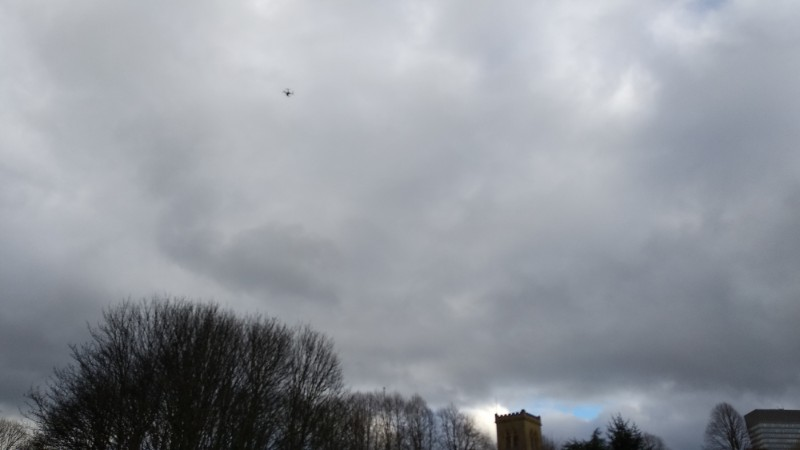drone: (281, 88, 294, 97)
